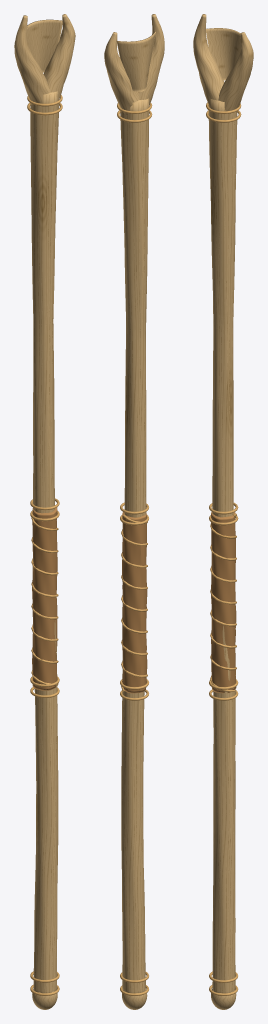
The model's file is palewood_staff.glb.
3 renders of one model, left to right at view 1: azimuth 30°, elevation 25°; view 2: azimuth 210°, elevation 25°; view 3: azimuth 330°, elevation 25°, orthographic.
Visible parts, largest first — view 1: Honey ivory pine with ochre fibres, Pale tan spiral grip binding, Raised polished carved wood edges; view 2: Honey ivory pine with ochre fibres, Pale tan spiral grip binding, Raised polished carved wood edges; view 3: Honey ivory pine with ochre fibres, Pale tan spiral grip binding, Raised polished carved wood edges.
Boxes of the visible parts, x1,y1,x2,y2 form: Honey ivory pine with ochre fibres: [14, 14, 75, 1009]; Pale tan spiral grip binding: [32, 507, 57, 690]; Raised polished carved wood edges: [27, 95, 62, 995]; Honey ivory pine with ochre fibres: [104, 14, 164, 1009]; Pale tan spiral grip binding: [122, 512, 147, 693]; Raised polished carved wood edges: [117, 103, 152, 995]; Honey ivory pine with ochre fibres: [193, 14, 253, 1009]; Pale tan spiral grip binding: [211, 512, 236, 693]; Raised polished carved wood edges: [206, 102, 241, 995].
Size of the model in its own units: 0.1119 by 1.81 by 0.0584.
Materials: 3 (2 with a texture image).
